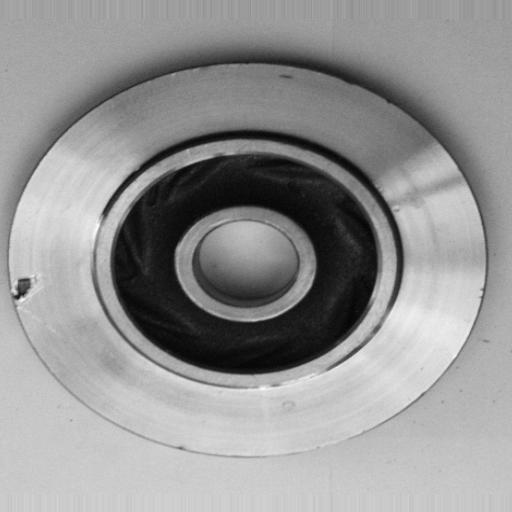crack: (5, 266, 51, 317)
scratch: (234, 361, 337, 404)
unpolished_casting: (10, 59, 491, 461)
